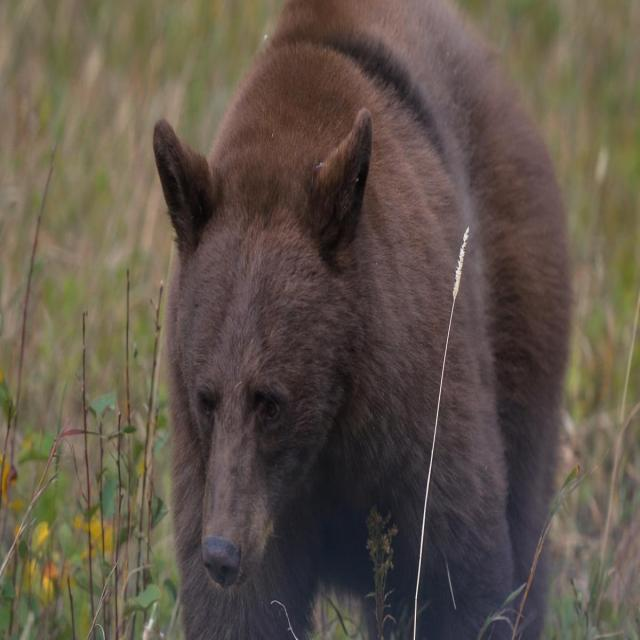Bear: (151, 0, 574, 640)
